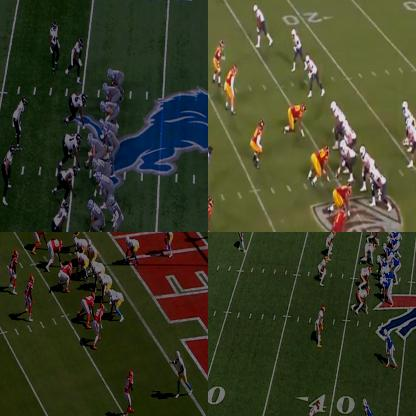CENTER: (338, 138, 353, 176), (84, 131, 98, 168), (77, 250, 88, 275), (376, 254, 388, 275)
DB: (49, 20, 59, 68), (317, 305, 327, 348), (125, 370, 134, 415), (208, 197, 213, 231), (237, 232, 246, 250), (308, 402, 320, 415)
LB: (2, 140, 16, 200), (12, 97, 26, 142), (49, 200, 68, 231), (69, 38, 84, 74), (226, 66, 238, 111), (252, 120, 264, 165), (93, 305, 104, 347), (214, 40, 224, 82), (26, 276, 35, 321), (9, 250, 18, 291), (334, 203, 347, 231), (316, 257, 327, 288), (326, 232, 337, 261)
QB: (104, 125, 119, 166), (407, 115, 415, 170), (389, 253, 401, 279), (86, 239, 98, 260)
SKILL: (174, 351, 192, 396), (306, 53, 324, 95), (108, 192, 125, 231), (255, 5, 268, 49), (88, 198, 105, 231), (291, 24, 301, 67), (110, 290, 124, 320), (126, 236, 140, 264), (103, 82, 122, 102), (384, 330, 394, 367), (108, 67, 124, 86), (362, 397, 377, 415), (162, 232, 172, 256), (402, 100, 412, 122), (387, 232, 403, 240)
